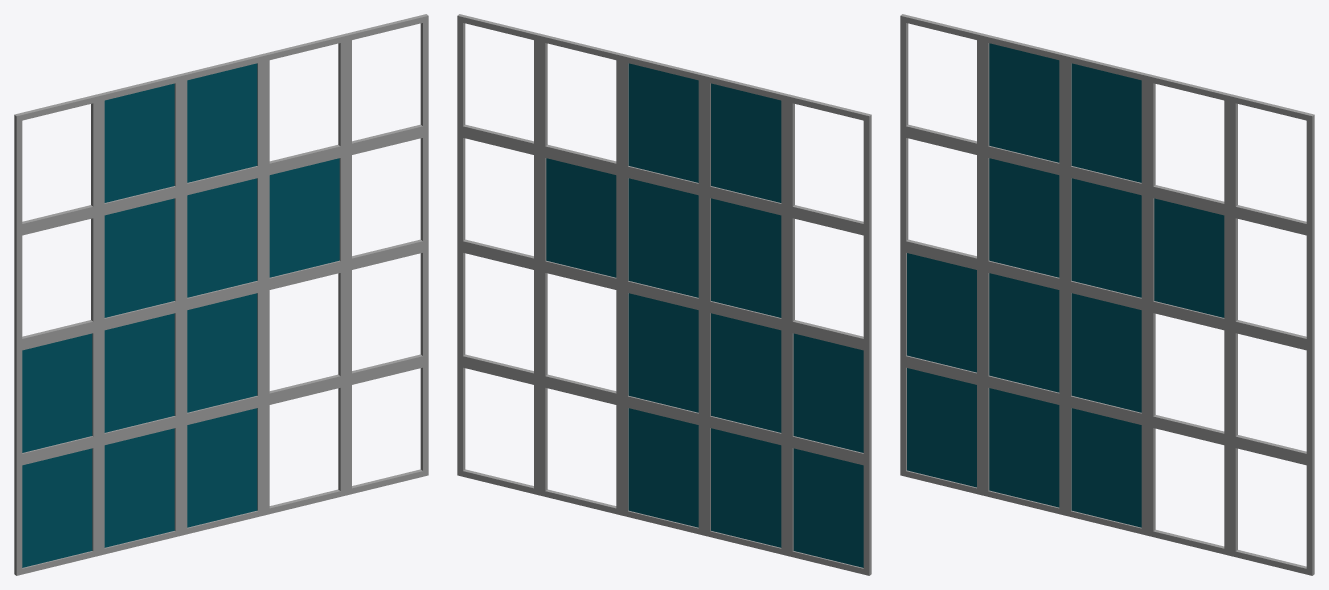
Rendered from window_close.fbx.
The picture shows the model from 3 angles, left to right: view 1: azimuth 30°, elevation 25°; view 2: azimuth 150°, elevation 25°; view 3: azimuth 330°, elevation 25°; orthographic projection.
Visible parts, largest first — view 1: polySurface65, polySurface60, polySurface20, polySurface16, polySurface56, polySurface18, polySurface51, polySurface55, polySurface62, polySurface63, polySurface61, polySurface57; view 2: polySurface65, polySurface60, polySurface56, polySurface20, polySurface16, polySurface51, polySurface55, polySurface63, polySurface18, polySurface61, polySurface57, polySurface62; view 3: polySurface65, polySurface60, polySurface16, polySurface18, polySurface57, polySurface56, polySurface61, polySurface51, polySurface55, polySurface62, polySurface20, polySurface63.
Part boxes in pixels (<box>): polySurface65: <box>14,14,428,575</box>; polySurface60: <box>99,151,346,440</box>; polySurface20: <box>22,448,92,567</box>; polySurface16: <box>187,408,257,527</box>; polySurface56: <box>187,63,257,182</box>; polySurface18: <box>104,428,174,547</box>; polySurface51: <box>187,293,257,412</box>; polySurface55: <box>187,178,257,297</box>; polySurface62: <box>104,83,174,202</box>; polySurface63: <box>22,333,92,452</box>; polySurface61: <box>104,198,174,317</box>; polySurface57: <box>104,313,174,432</box>; polySurface65: <box>457,14,871,575</box>; polySurface60: <box>539,151,786,440</box>; polySurface56: <box>628,63,698,182</box>; polySurface20: <box>793,448,863,567</box>; polySurface16: <box>628,408,698,527</box>; polySurface51: <box>628,293,698,412</box>; polySurface55: <box>628,178,698,297</box>; polySurface63: <box>793,333,863,452</box>; polySurface18: <box>711,428,781,547</box>; polySurface61: <box>711,198,781,317</box>; polySurface57: <box>711,313,781,432</box>; polySurface62: <box>711,83,781,202</box>; polySurface65: <box>900,14,1314,575</box>; polySurface60: <box>982,151,1229,440</box>; polySurface16: <box>1071,408,1141,527</box>; polySurface18: <box>989,388,1059,507</box>; polySurface57: <box>989,273,1059,392</box>; polySurface56: <box>1071,63,1141,182</box>; polySurface61: <box>989,158,1059,277</box>; polySurface51: <box>1071,293,1141,412</box>; polySurface55: <box>1071,178,1141,297</box>; polySurface62: <box>989,43,1059,162</box>; polySurface20: <box>907,368,976,487</box>; polySurface63: <box>907,253,976,372</box>.
Bounding box in the file's own units: 447 × 477 × 4.43.
